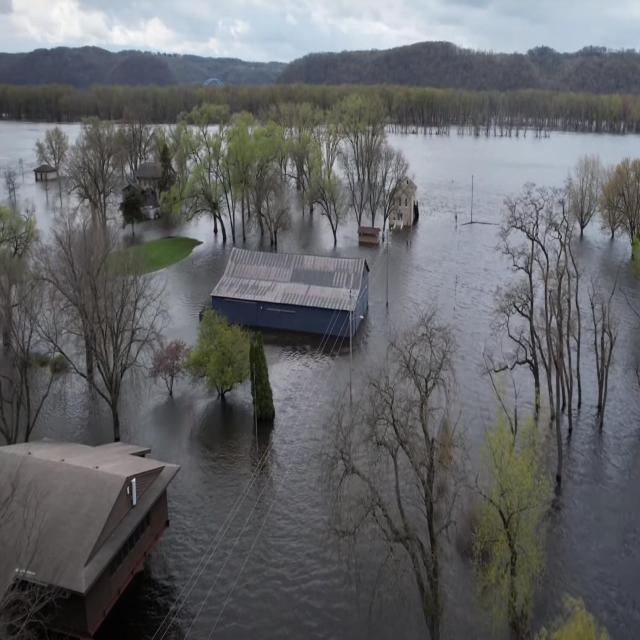flood: (280, 130, 640, 488), (99, 331, 428, 638), (535, 221, 640, 637), (0, 110, 80, 231), (159, 217, 229, 342), (119, 102, 199, 192), (36, 375, 112, 443), (442, 548, 493, 637), (108, 190, 179, 244), (545, 131, 640, 159), (409, 128, 474, 142), (475, 131, 512, 148)
house: (0, 434, 183, 640), (212, 241, 370, 343), (136, 157, 169, 215), (388, 173, 418, 235), (357, 224, 382, 248), (34, 164, 58, 183)
